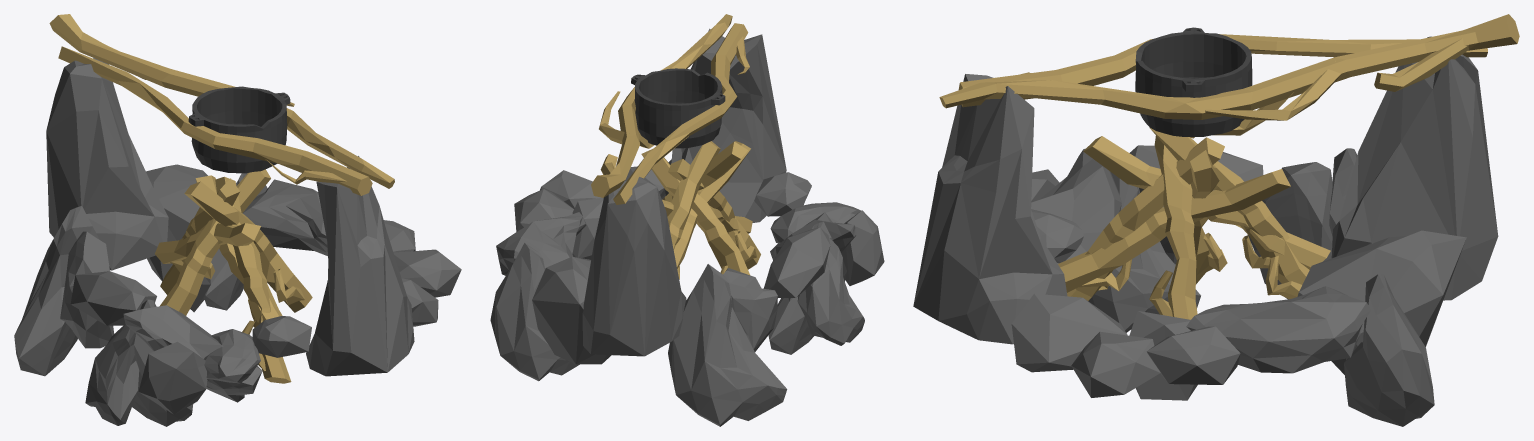
The model's file is CampFire.fbx.
3 views of the same model, side by side, from view 1: azimuth 30°, elevation 25°; view 2: azimuth 150°, elevation 25°; view 3: azimuth 270°, elevation 25° (orthographic). The views are drawn at different scales.
Visible parts, largest first — view 1: Icosphere.023, Icosphere.022, NurbsPath.004, Icosphere.017, Circle, NurbsPath.005, Icosphere.007, Icosphere.020, Icosphere.025, Icosphere.019, Icosphere.005, NurbsPath.012 (+14 smaller); view 2: Icosphere.023, Icosphere.017, Icosphere.022, Icosphere.026, Circle, Icosphere.005, NurbsPath.005, Icosphere.025, NurbsPath.004, Icosphere.015, Icosphere.007, Icosphere.014 (+14 smaller); view 3: Icosphere.022, Icosphere.023, NurbsPath.005, Icosphere.007, Icosphere.005, Icosphere.026, Circle, NurbsPath.010, Icosphere.021, NurbsPath.004, NurbsPath.012, Icosphere.020 (+13 smaller).
Part boxes in pixels (<box>): Icosphere.023: <box>46,58,168,270</box>; Icosphere.022: <box>306,156,414,376</box>; NurbsPath.004: <box>58,46,372,195</box>; Icosphere.017: <box>14,206,99,376</box>; Circle: <box>188,86,290,173</box>; NurbsPath.005: <box>49,14,394,188</box>; Icosphere.007: <box>242,179,327,255</box>; Icosphere.020: <box>123,305,262,402</box>; Icosphere.025: <box>85,324,139,425</box>; Icosphere.019: <box>138,341,207,414</box>; Icosphere.005: <box>146,164,227,312</box>; NurbsPath.012: <box>184,181,312,312</box>; Icosphere.023: <box>582,177,686,356</box>; Icosphere.017: <box>668,264,787,426</box>; Icosphere.022: <box>664,28,786,222</box>; Icosphere.026: <box>490,242,579,381</box>; Circle: <box>631,68,725,148</box>; Icosphere.005: <box>532,256,611,364</box>; NurbsPath.005: <box>591,14,732,197</box>; Icosphere.025: <box>797,238,864,345</box>; NurbsPath.004: <box>613,23,749,204</box>; Icosphere.015: <box>763,227,830,297</box>; Icosphere.007: <box>496,212,586,275</box>; Icosphere.014: <box>723,268,777,351</box>; Icosphere.022: <box>913,74,1067,344</box>; Icosphere.023: <box>1331,36,1498,300</box>; NurbsPath.005: <box>939,14,1519,138</box>; Icosphere.007: <box>1186,286,1370,373</box>; Icosphere.005: <box>1297,230,1466,374</box>; Icosphere.026: <box>1344,274,1434,426</box>; Circle: <box>1135,27,1252,136</box>; NurbsPath.010: <box>1058,169,1290,292</box>; Icosphere.021: <box>1011,293,1127,372</box>; NurbsPath.004: <box>958,34,1487,107</box>; NurbsPath.012: <box>1149,136,1197,319</box>; Icosphere.020: <box>1031,148,1121,263</box>.
Size of the model in its own units: 419 by 325 by 514.
